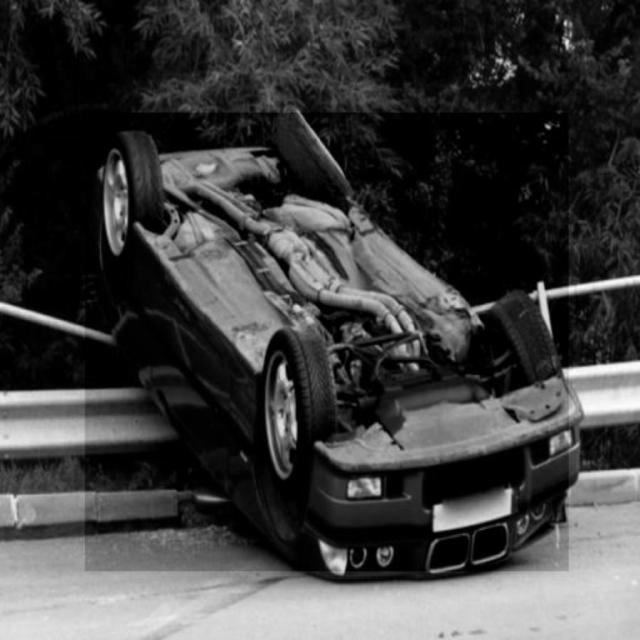accident: (85, 113, 569, 571)
